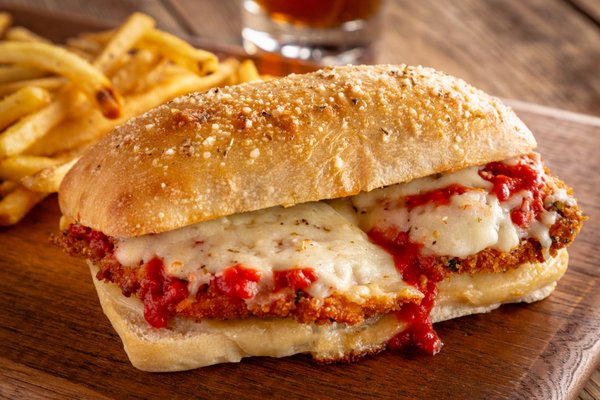soup: (59, 62, 594, 372)
